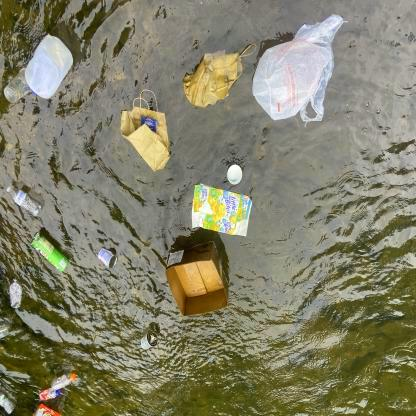Metal: (31, 229, 71, 275), (96, 245, 118, 272), (139, 331, 163, 353)
Plastic: (251, 13, 347, 129), (5, 30, 74, 104), (2, 181, 45, 219), (37, 369, 85, 402), (7, 276, 27, 314), (254, 64, 278, 88), (0, 391, 17, 416)
Trash: (182, 37, 259, 110), (119, 85, 172, 179), (225, 163, 245, 186)
